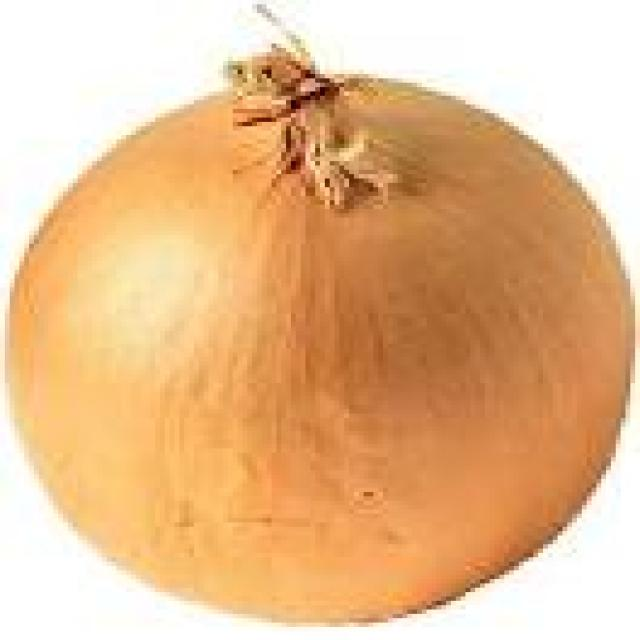onion: (0, 22, 635, 636)
